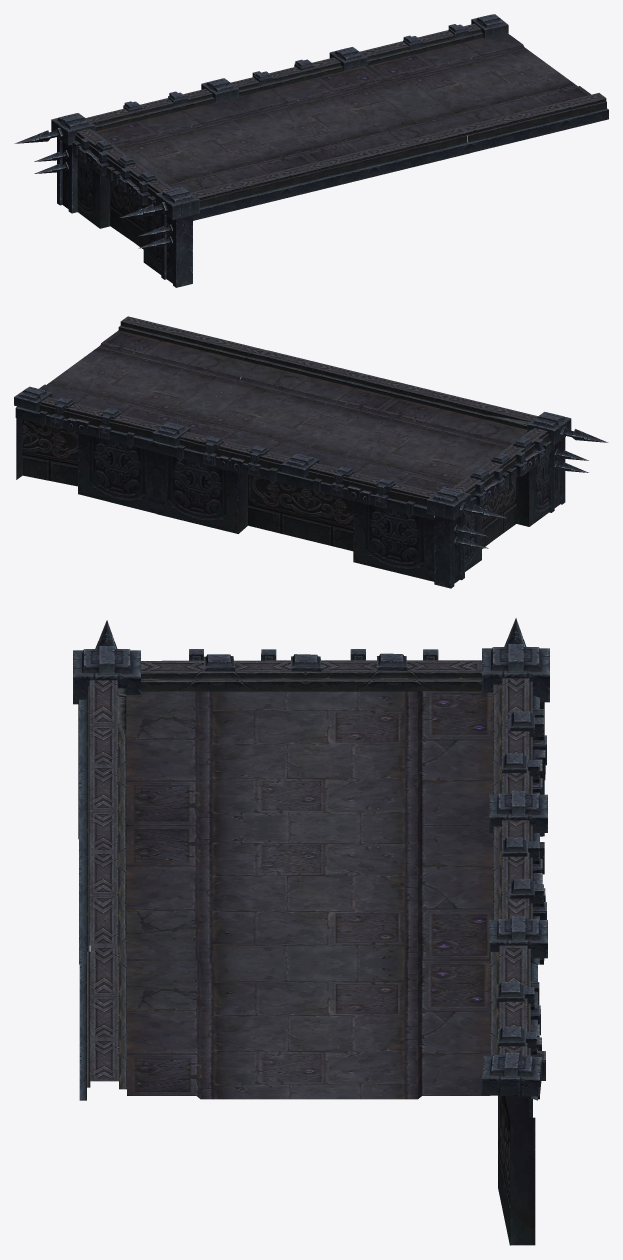
File: 2_BTT_DiBiaoPinJieMoKuai_01.FBX
3 renders of one model, top to bottom at view 1: azimuth 30°, elevation 25°; view 2: azimuth 150°, elevation 25°; view 3: azimuth 270°, elevation 25°, orthographic. The views are drawn at different scales.
Visible parts, largest first — view 1: 2_BTT_DiBiaoPinJieMoKuai_01, 2_BTT_DiBiaoPinJieMoKuai_03, 2_BTT_DiBiaoPinJieMoKuai_02, 2_BTT_DiBiaoPinJieMoKuai_01_03, 2_BTT_DiBiaoPinJieMoKuai_01_02, 2_BTT_DiBiaoPinJieMoKuai_02_03, 2_BTT_DiBiaoPinJieMoKuai_02_02; view 2: 2_BTT_DiBiaoPinJieMoKuai_01_02, 2_BTT_DiBiaoPinJieMoKuai_01, 2_BTT_DiBiaoPinJieMoKuai_03, 2_BTT_DiBiaoPinJieMoKuai_02_02, 2_BTT_DiBiaoPinJieMoKuai_02, 2_BTT_DiBiaoPinJieMoKuai_01_03, 2_BTT_DiBiaoPinJieMoKuai_02_03; view 3: 2_BTT_DiBiaoPinJieMoKuai_01, 2_BTT_DiBiaoPinJieMoKuai_02, 2_BTT_DiBiaoPinJieMoKuai_03, 2_BTT_DiBiaoPinJieMoKuai_01_02, 2_BTT_DiBiaoPinJieMoKuai_02_02, 2_BTT_DiBiaoPinJieMoKuai_01_03, 2_BTT_DiBiaoPinJieMoKuai_02_03.
Boxes of the visible parts, <box> form: 2_BTT_DiBiaoPinJieMoKuai_01: <box>96,65,452,192</box>; 2_BTT_DiBiaoPinJieMoKuai_03: <box>14,113,199,287</box>; 2_BTT_DiBiaoPinJieMoKuai_02: <box>367,33,590,128</box>; 2_BTT_DiBiaoPinJieMoKuai_01_03: <box>190,127,469,220</box>; 2_BTT_DiBiaoPinJieMoKuai_01_02: <box>86,47,367,131</box>; 2_BTT_DiBiaoPinJieMoKuai_02_03: <box>460,93,608,152</box>; 2_BTT_DiBiaoPinJieMoKuai_02_02: <box>360,14,508,65</box>; 2_BTT_DiBiaoPinJieMoKuai_01_02: <box>152,422,436,581</box>; 2_BTT_DiBiaoPinJieMoKuai_01: <box>177,364,527,492</box>; 2_BTT_DiBiaoPinJieMoKuai_03: <box>427,412,608,588</box>; 2_BTT_DiBiaoPinJieMoKuai_02_02: <box>14,386,162,513</box>; 2_BTT_DiBiaoPinJieMoKuai_02: <box>39,330,257,424</box>; 2_BTT_DiBiaoPinJieMoKuai_01_03: <box>258,350,537,429</box>; 2_BTT_DiBiaoPinJieMoKuai_02_03: <box>118,316,266,364</box>; 2_BTT_DiBiaoPinJieMoKuai_01: <box>126,691,492,963</box>; 2_BTT_DiBiaoPinJieMoKuai_02: <box>127,960,490,1099</box>; 2_BTT_DiBiaoPinJieMoKuai_03: <box>73,618,549,839</box>; 2_BTT_DiBiaoPinJieMoKuai_01_02: <box>489,678,547,964</box>; 2_BTT_DiBiaoPinJieMoKuai_02_02: <box>481,945,545,1245</box>; 2_BTT_DiBiaoPinJieMoKuai_01_03: <box>79,680,126,964</box>; 2_BTT_DiBiaoPinJieMoKuai_02_03: <box>79,945,126,1100</box>.
Bounding box in the file's own units: 4399 × 762 × 1865.
